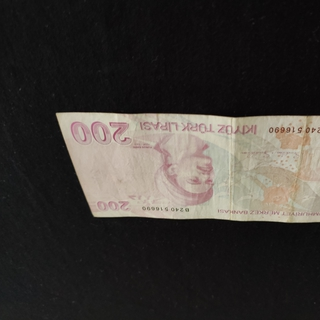200TLBack: (55, 111, 320, 226)
